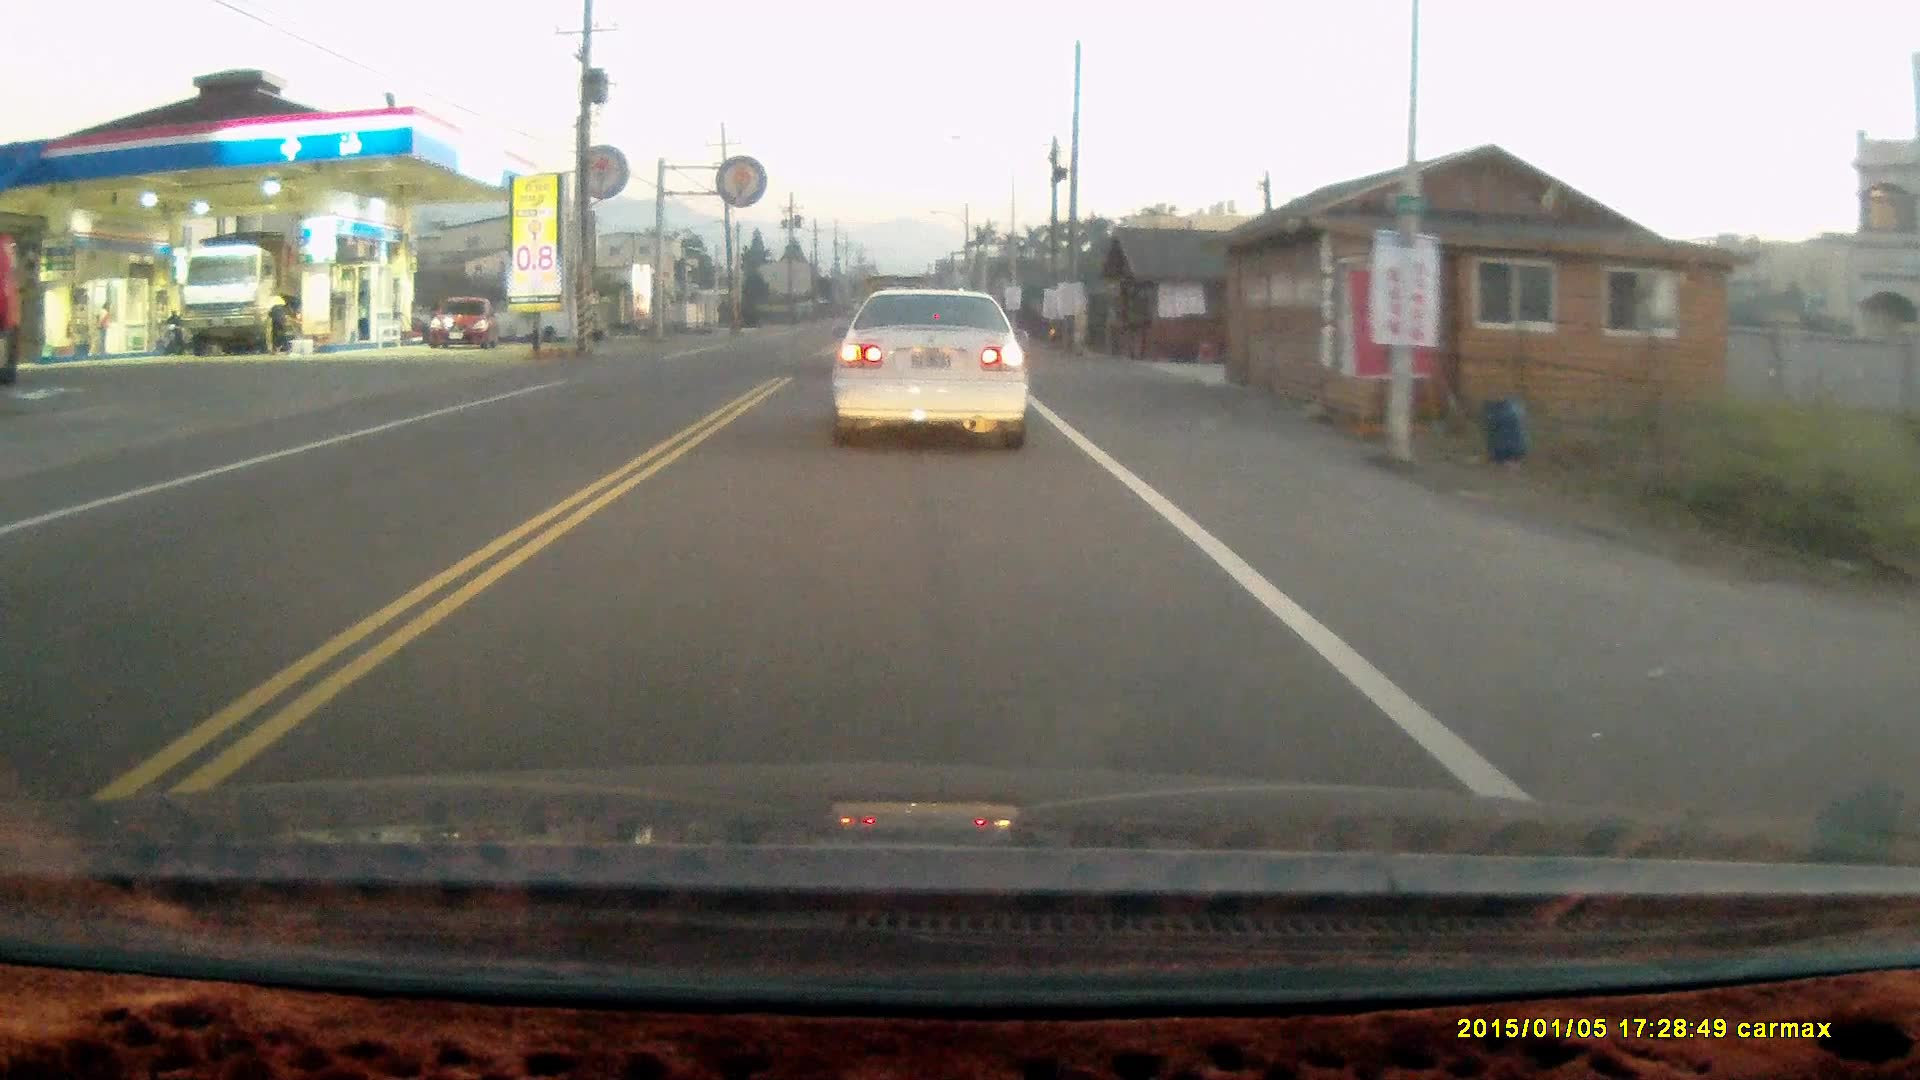pedestrian: (260, 286, 287, 352)
vehicle: (827, 281, 1035, 451), (179, 238, 300, 356), (429, 299, 506, 354)
